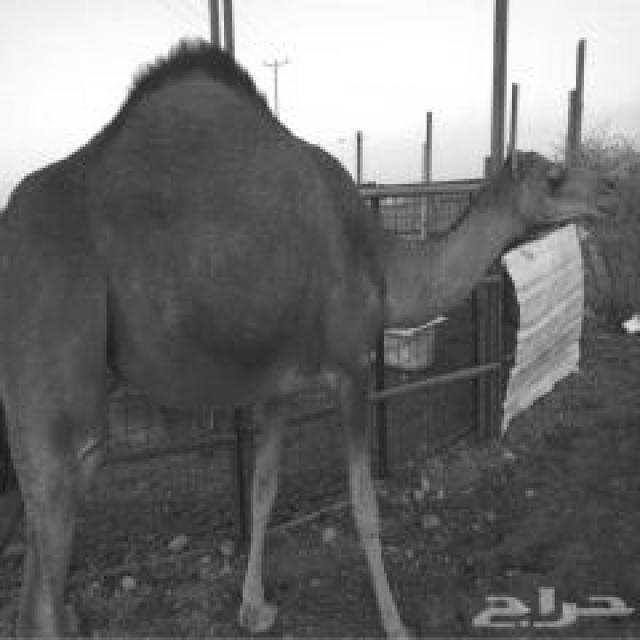Camel: (0, 34, 621, 637)
